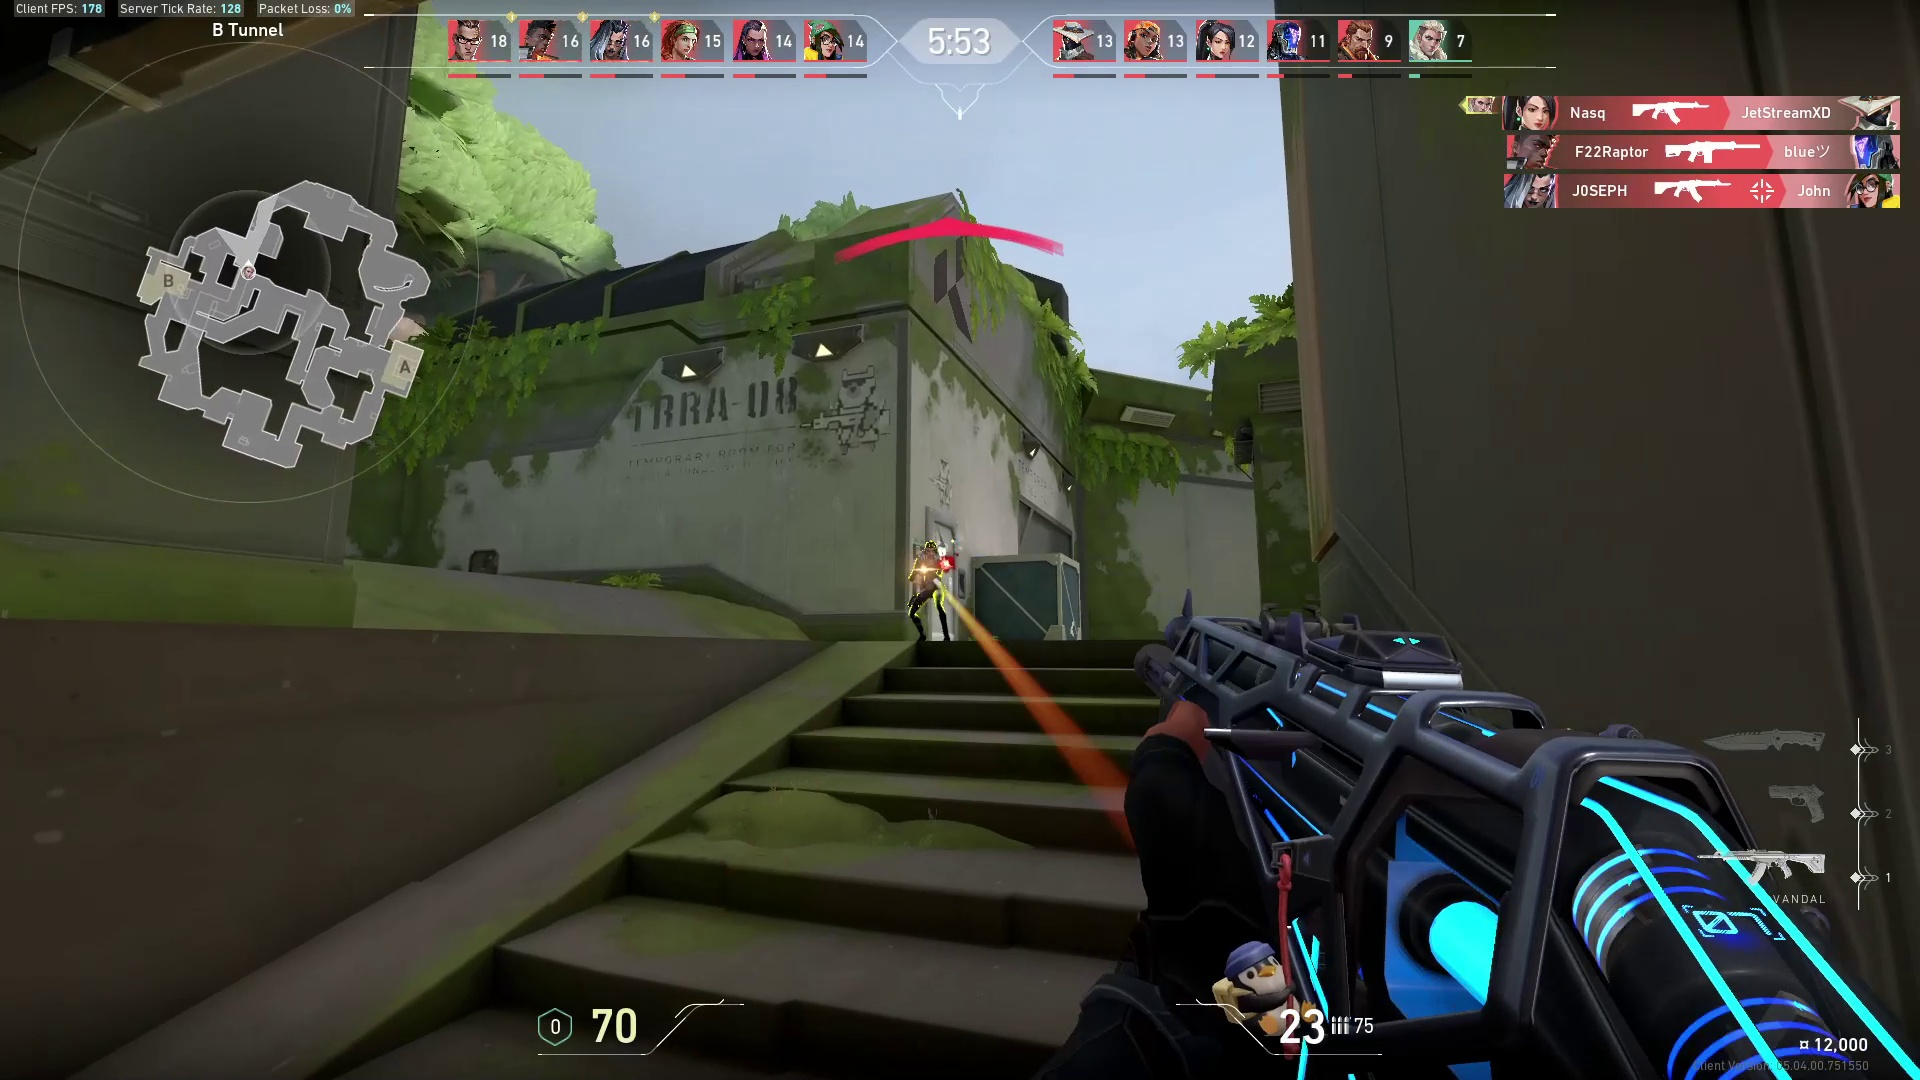enemy_body: (905, 562, 959, 642)
enemy_head: (920, 535, 940, 565)
